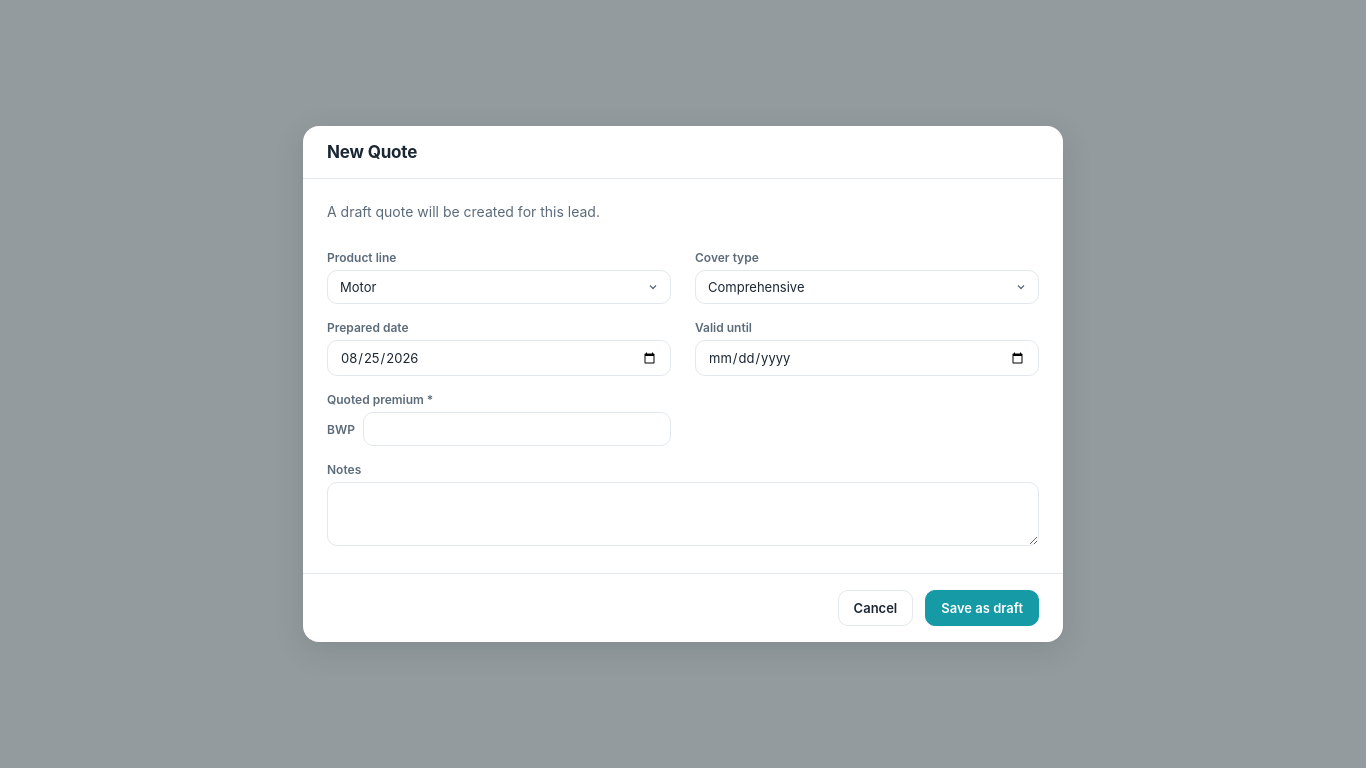
Test case: NewQuoteModal › click_WhenConfirmedWithoutPremium_ShouldShowInlineErrorAndNotConfirm
The image size is (1366, 768).
Click the button with test id "dialog-primary-button" at (982, 608), box [925,590,1039,626]
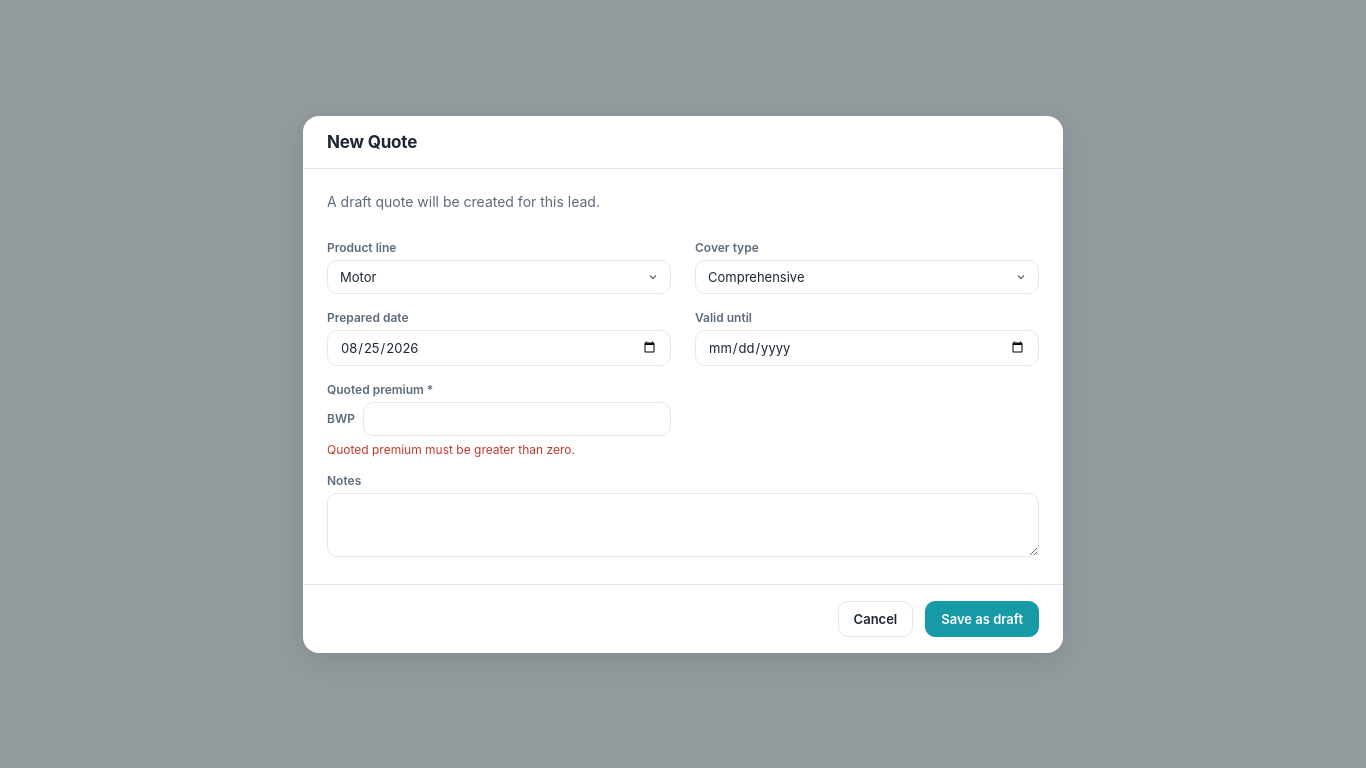
Check: the message with test id "field-error-premium" reads "Quoted premium must be greater than zero.", box [327,442,575,456]
